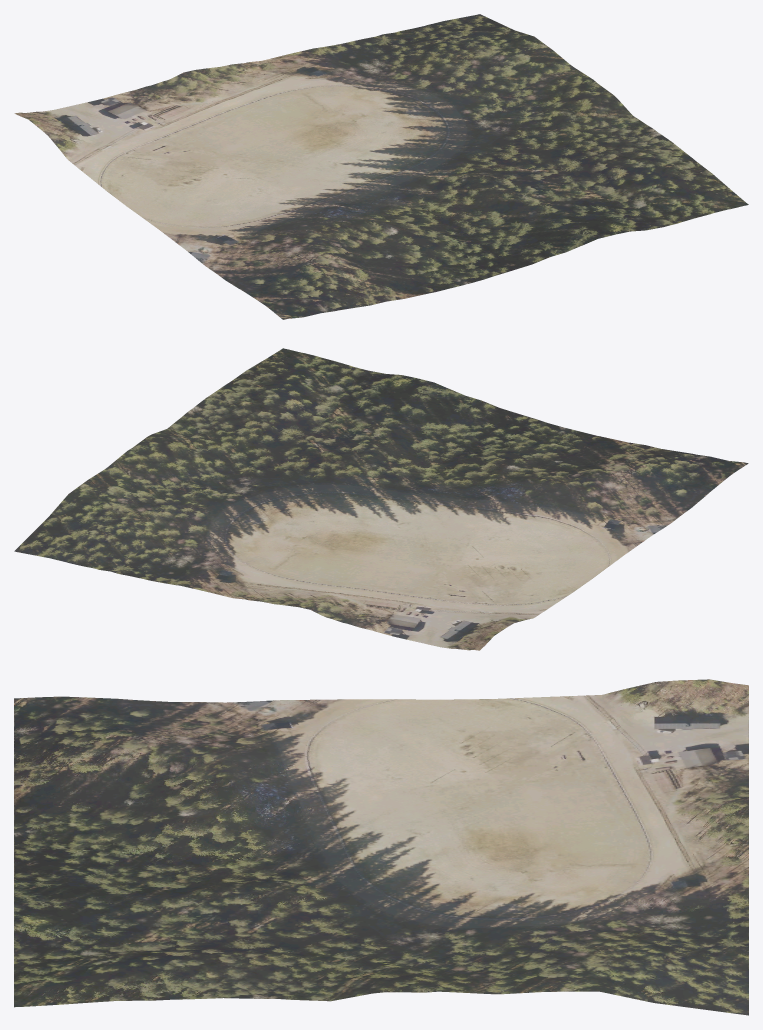
The model's file is CM_Terrain_24489230_6822251.fbx.
3 renders of one model, top to bottom at view 1: azimuth 30°, elevation 25°; view 2: azimuth 150°, elevation 25°; view 3: azimuth 270°, elevation 25°, orthographic. The views are drawn at different scales.
Parts seen in each view (by area): view 1: CM_Terrain_24489230_6822251_LOD0; view 2: CM_Terrain_24489230_6822251_LOD0; view 3: CM_Terrain_24489230_6822251_LOD0.
Boxes of the visible parts, x1=… form: CM_Terrain_24489230_6822251_LOD0: x1=14, y1=14, x2=748, y2=319; CM_Terrain_24489230_6822251_LOD0: x1=14, y1=348, x2=748, y2=650; CM_Terrain_24489230_6822251_LOD0: x1=14, y1=679, x2=748, y2=1015.
Size of what is drawn, in the model's own units: 205 by 9.84 by 205.
